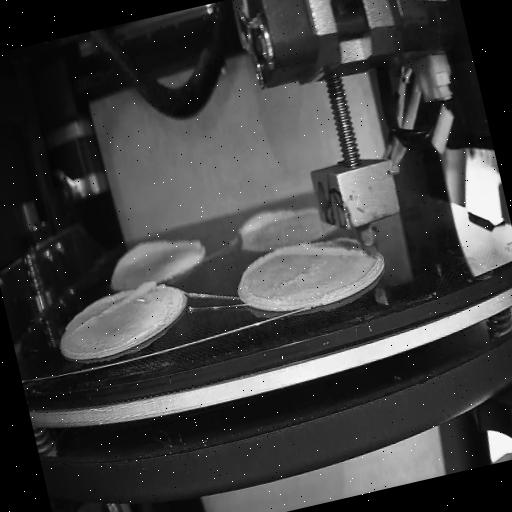over_extrusion: (236, 228, 364, 284), (67, 276, 166, 332), (108, 227, 206, 270), (232, 203, 302, 247), (248, 286, 282, 308)
